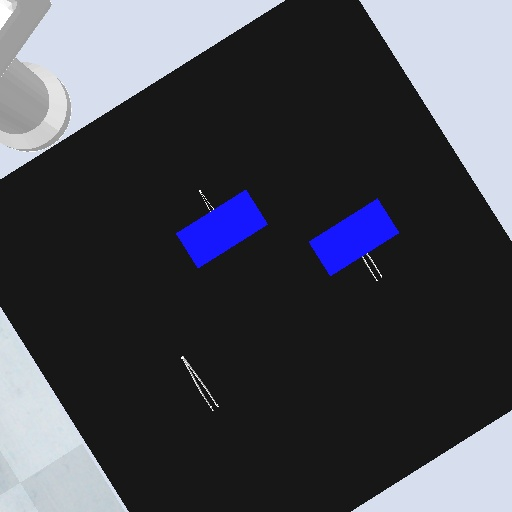pinza: (180, 352, 221, 414), (360, 251, 384, 283), (196, 187, 216, 214)
